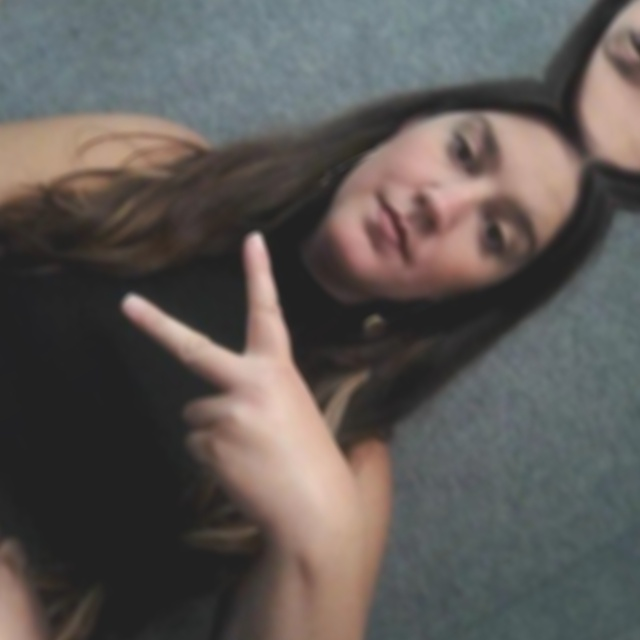Scissors: (44, 194, 437, 635)
